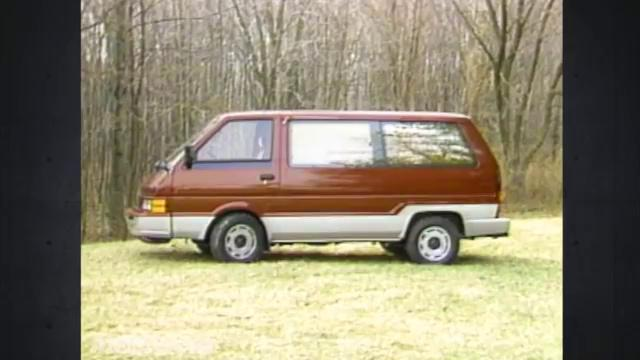Van: (125, 108, 512, 259)
